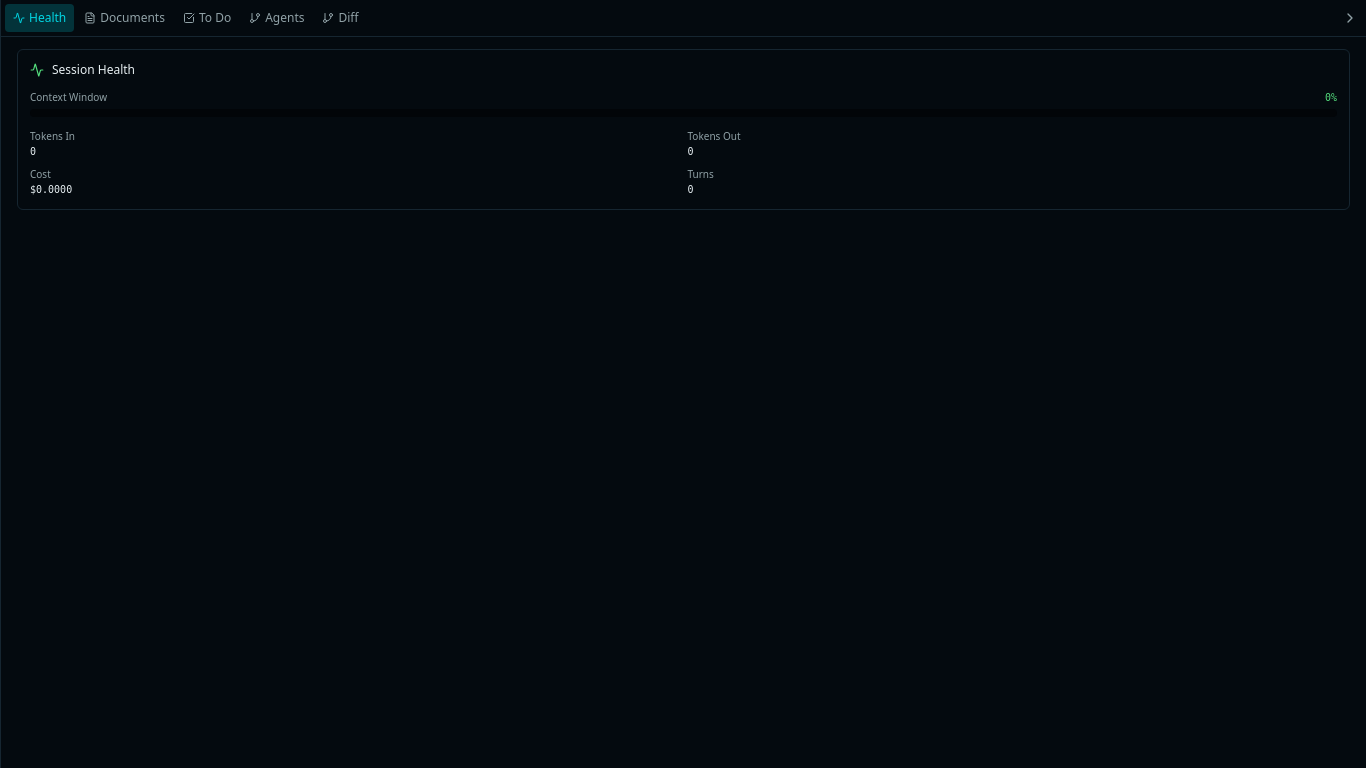
GoalPlanPane › renders todos on To Do tab when plan exists
This screenshot has width=1366, height=768.
What coordinates should you click on to do the following:
click the button "To Do"
I would click on:
 (207, 18)
Its box is [175,4,239,32].
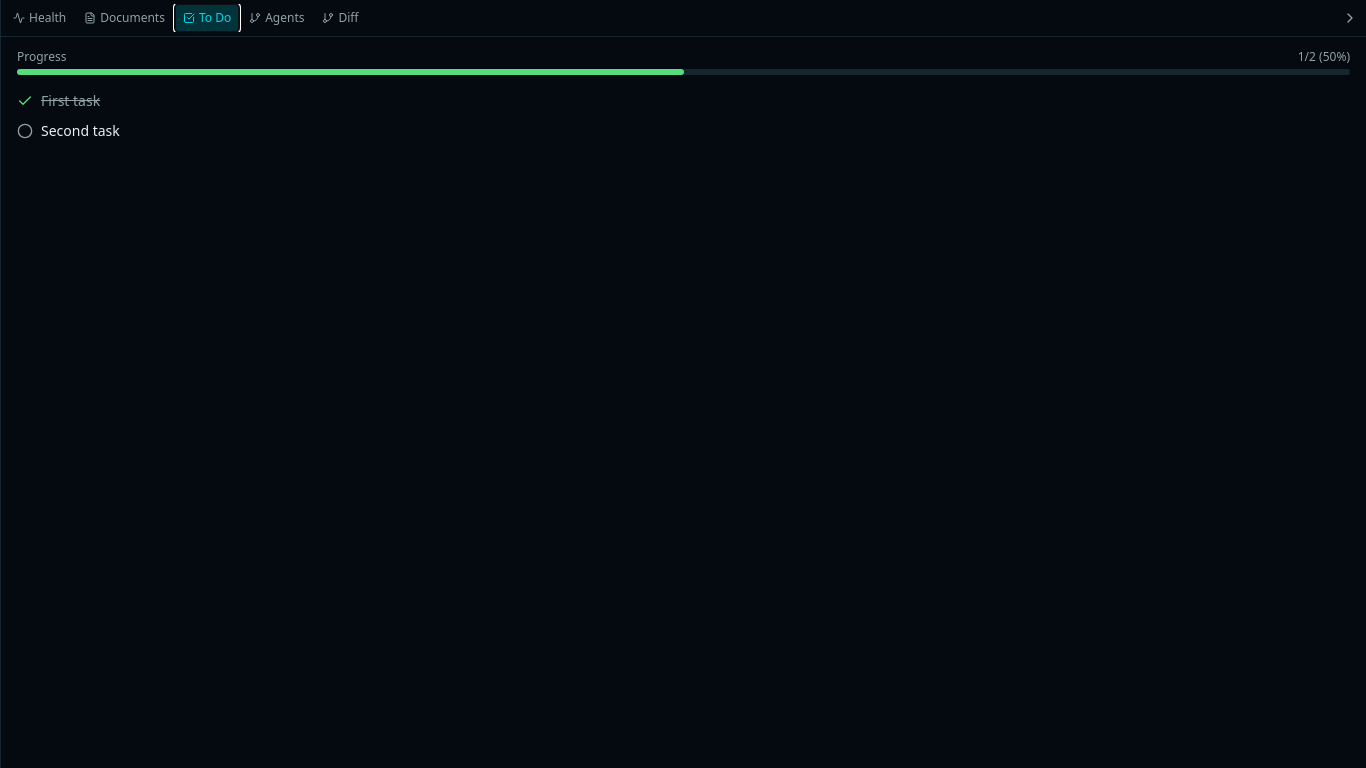
Expected: the text "First task" is shown, [41,91,100,111]
Expected: the text "Second task" is shown, [41,121,120,141]
